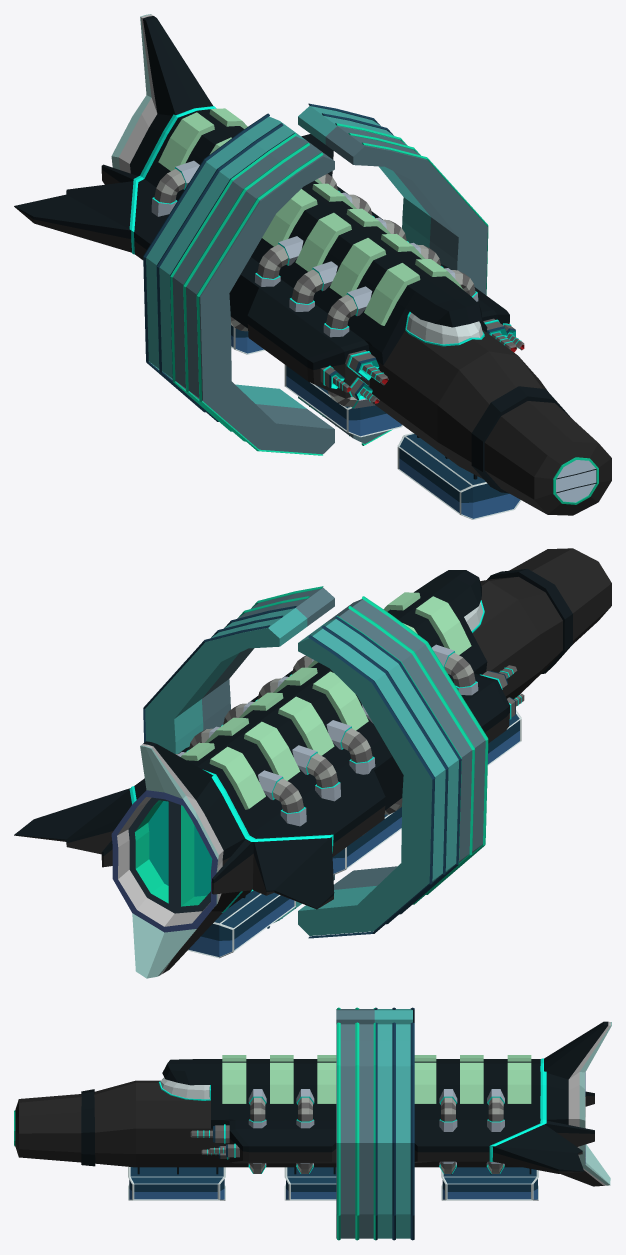
The model's file is Freighter.001_Mesh.fbx.
3 views of the same model, one above another, from view 1: azimuth 30°, elevation 25°; view 2: azimuth 150°, elevation 25°; view 3: azimuth 270°, elevation 25° (orthographic). The views are drawn at different scales.
Visible parts, largest first — view 1: Cruiser.001_LOD0; view 2: Cruiser.001_LOD0; view 3: Cruiser.001_LOD0.
Part boxes in pixels (x1=…): Cruiser.001_LOD0: x1=14, y1=14, x2=611, y2=519; Cruiser.001_LOD0: x1=14, y1=548, x2=611, y2=978; Cruiser.001_LOD0: x1=14, y1=1007, x2=611, y2=1240.
Size of what is drawn, in the model's own units: 15011 by 14356 by 36990.
Materials: 1 (1 with a texture image).
